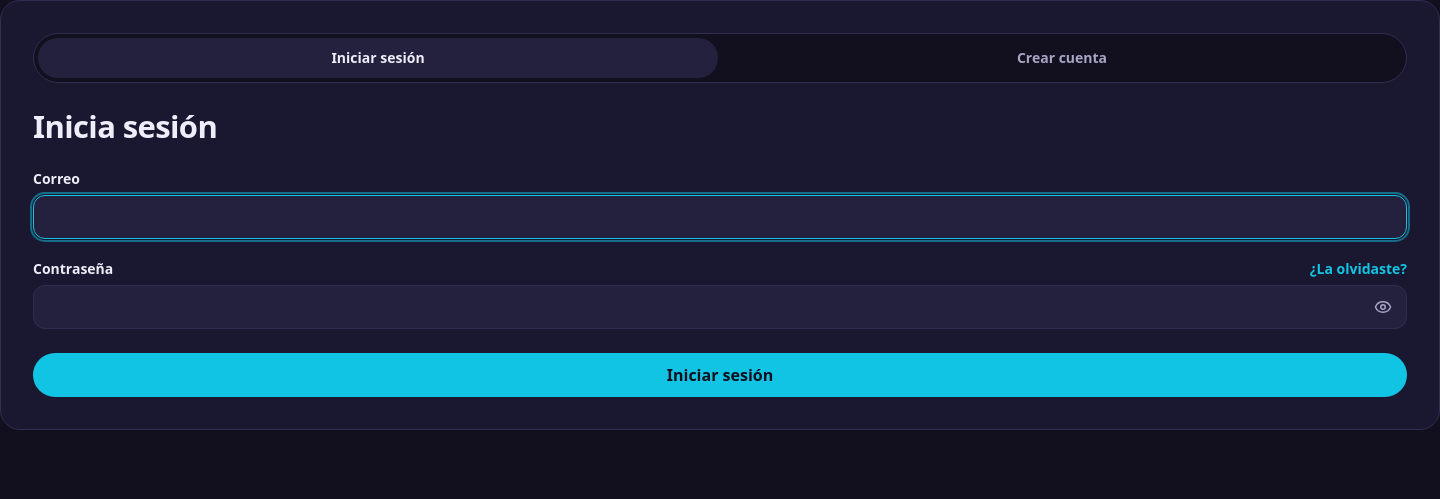
Test: LoginPage › valida antes de enviar
The image size is (1440, 499).
Click the button "Iniciar sesión". click: click(720, 375)
box: [33,353,1407,397]
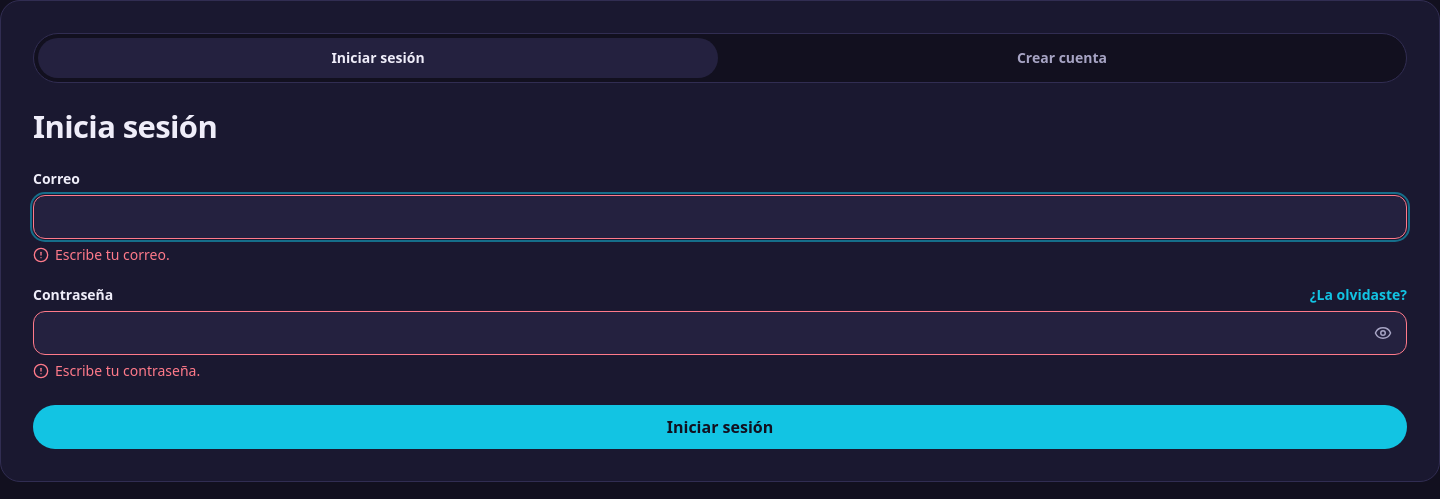
Now the text "Escribe tu correo." is shown, box [33,245,170,265]
Now the text "Escribe tu contraseña." is shown, box [33,361,200,381]
